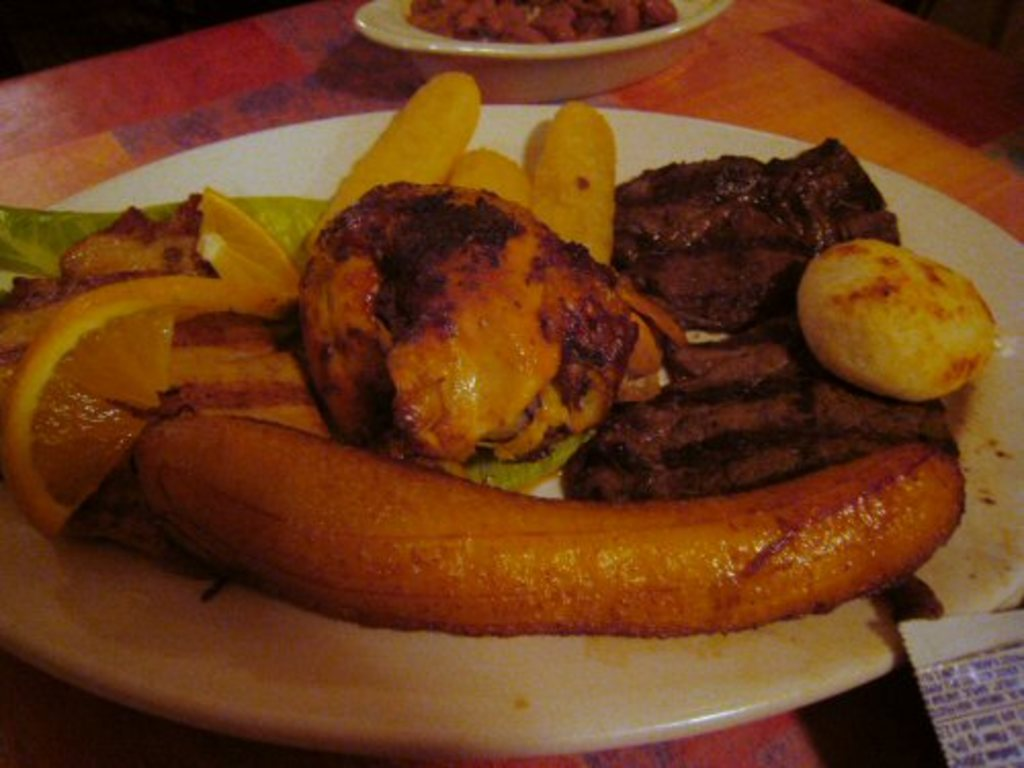French fries: (114, 434, 952, 626), (303, 67, 487, 241), (534, 100, 618, 268), (436, 147, 534, 212)
